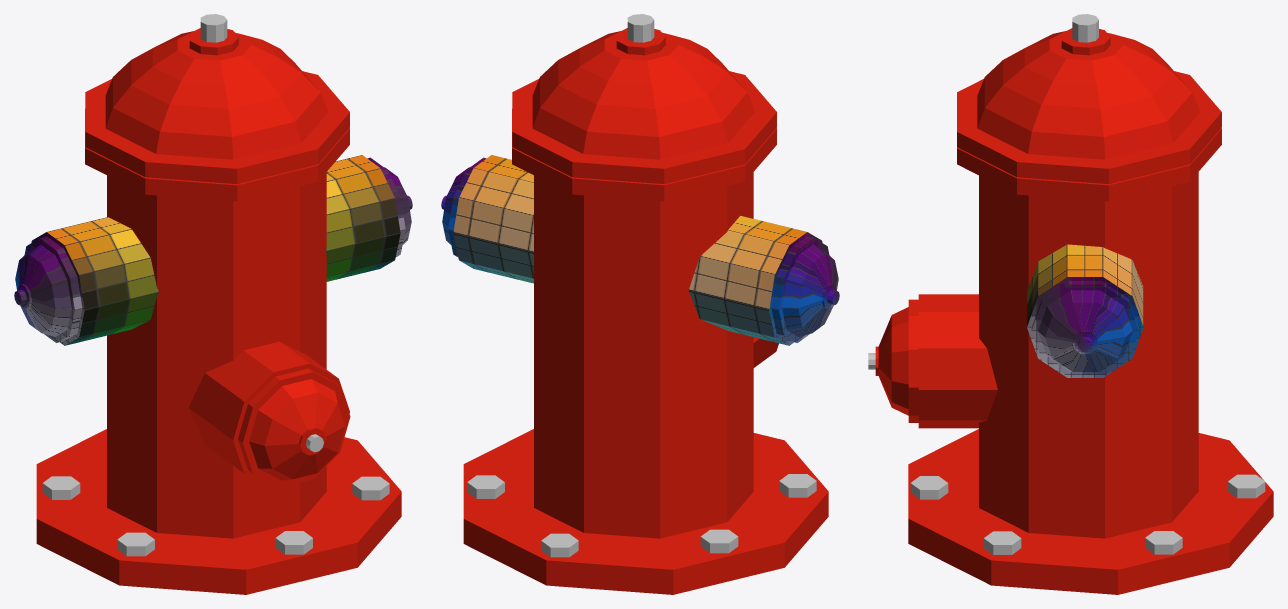
Rendered from idrante.fbx.
The picture shows the model from 3 angles, left to right: view 1: azimuth 30°, elevation 25°; view 2: azimuth 150°, elevation 25°; view 3: azimuth 270°, elevation 25°; orthographic projection.
Parts seen in each view (by area): view 1: Cylinder, Cylinder.001, Cylinder.002, Cylinder.003; view 2: Cylinder, Cylinder.001, Cylinder.003; view 3: Cylinder, Cylinder.002, Cylinder.001, Cylinder.003.
Part boxes in pixels (x1,y1,x2,y2): Cylinder: (36,14,401,594); Cylinder.001: (14,155,412,345); Cylinder.002: (188,341,350,488); Cylinder.003: (42,476,389,556); Cylinder: (463,14,828,594); Cylinder.001: (441,155,839,345); Cylinder.003: (467,474,816,557); Cylinder: (908,14,1273,594); Cylinder.002: (868,294,997,428); Cylinder.001: (1027,244,1143,377); Cylinder.003: (910,474,1265,554).
Size of the model in its own units: 157 by 191 by 141.
